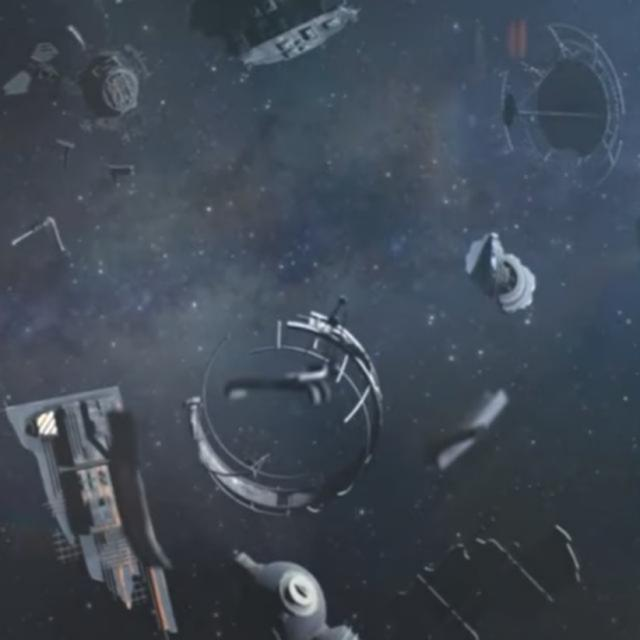large_debris: (172, 302, 409, 532), (0, 366, 193, 637), (217, 514, 598, 640), (481, 24, 640, 202), (141, 0, 386, 76)
medium_debris: (461, 233, 542, 321), (436, 391, 515, 478), (79, 48, 152, 120), (9, 213, 77, 263), (0, 65, 47, 101), (33, 38, 66, 75)
small_debris: (99, 154, 139, 180), (57, 138, 82, 159)
